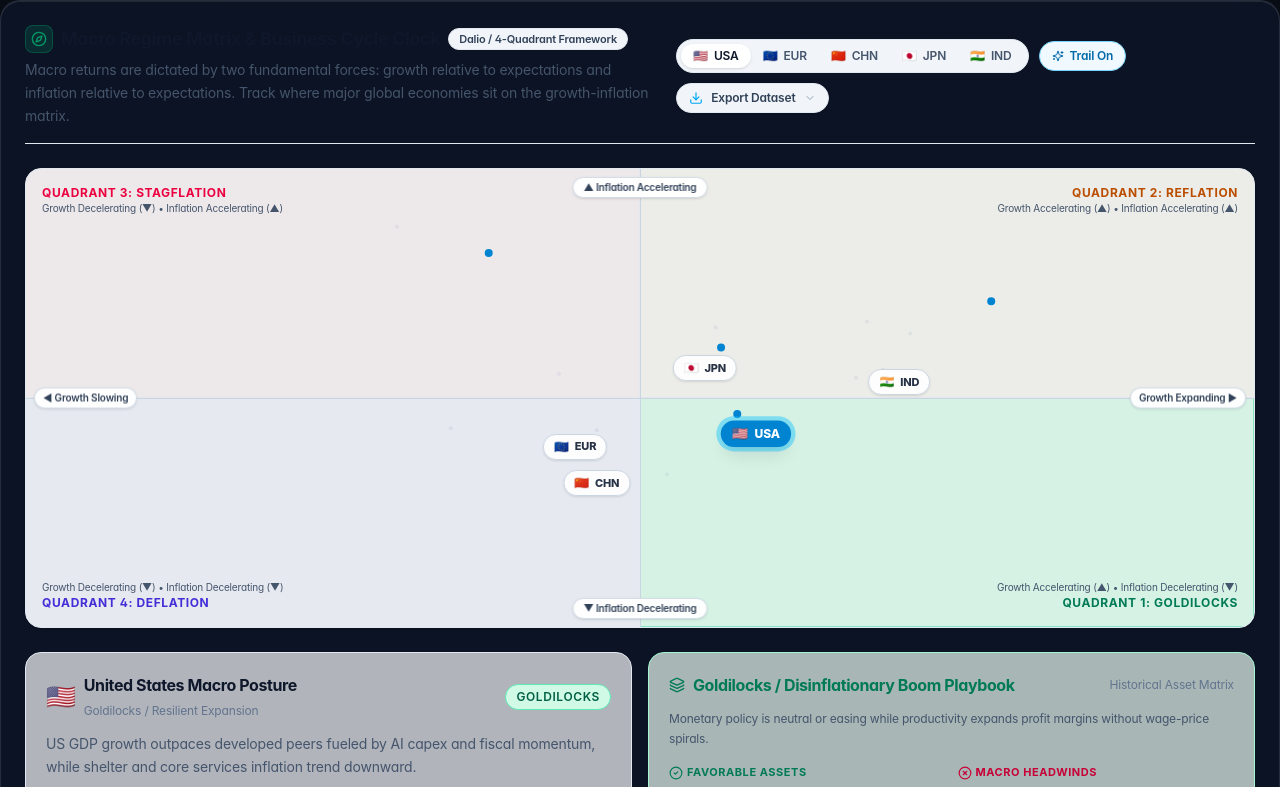
Test: MacroRegimeClock Component › toggles historical trail visualization
Click the button "Trail On". click: (1082, 56)
box: [1038,41,1126,71]
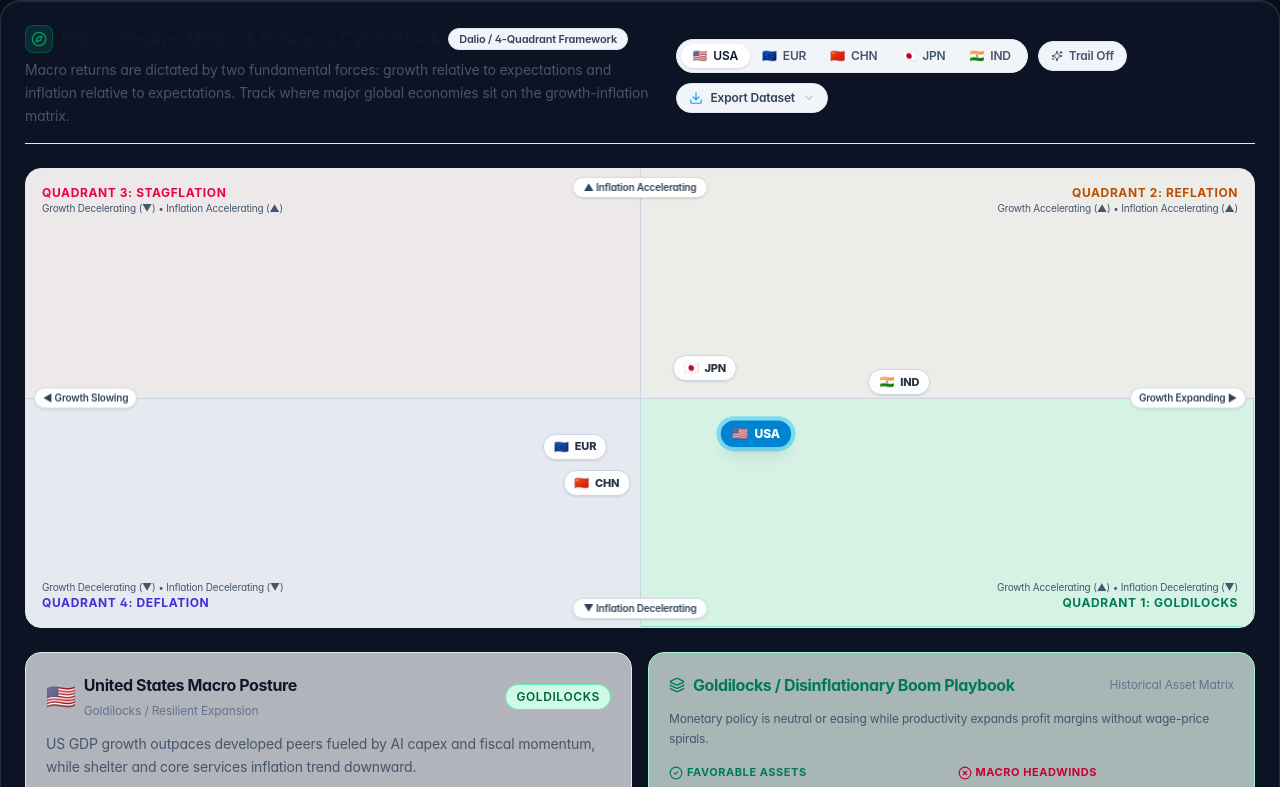
Now the button "Trail Off" is shown, box [1038,41,1127,71]
